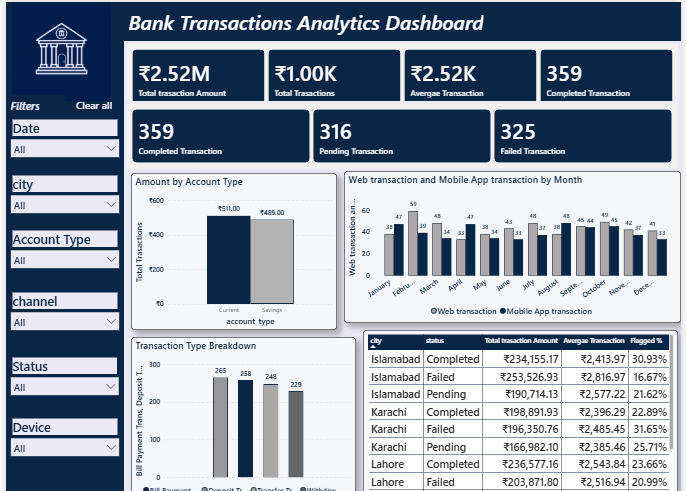

What the dashboard file says about the page in this screenshot:
{"tool":"powerbi","page":{"name":"Details","canvas":[1350,1000],"ordinal":1},"visuals":[{"type":"shape","box":[236,0,1114,78],"z":0},{"type":"cardVisual","fields":{"Data":["All measures.Total trasaction Amount","All measures.Total Trasactions","All measures.Avergae Transaction","All measures.Completed Transaction"]},"box":[236,78,1114,146],"z":1000},{"type":"cardVisual","fields":{"Data":["All measures.Complete Transaction","All measures.Pending Transaction","All measures.Failed Transaction"]},"box":[236,198,1114,140],"z":2000},{"type":"shape","box":[0,0,236,1000],"z":3000},{"type":"slicer","fields":{"Values":["Table_bank.city"]},"box":[0,342.5,236,94],"z":4000},{"type":"slicer","fields":{"Values":["Table_bank.account_type"]},"box":[0,452.5,236,94],"z":5000},{"type":"slicer","fields":{"Values":["Table_bank.channel"]},"box":[0,575,236,94],"z":6000},{"type":"slicer","fields":{"Values":["Table_bank.status"]},"box":[0,705,235,122.5],"z":7000},{"type":"slicer","fields":{"Values":["Table_bank.device"]},"box":[0,827.5,236,94],"z":8000},{"type":"slicer","fields":{"Values":["Custom_Calender.Date"]},"box":[0,230,236,112],"z":9000},{"type":"image","box":[0,0,222,198],"z":10000},{"type":"clusteredColumnChart","title":"Amount by Account Type","fields":{"Y":["All measures.Total Trasactions"],"Category":["Table_bank.account_type"]},"box":[250,342,412,314],"z":11000},{"type":"clusteredColumnChart","fields":{"Category":["Custom_Calender.Date.Variation.Date Hierarchy.Month"],"Y":["All measures.Web transaction","All measures.Mobile App transaction"]},"box":[676,338,674,304],"z":12000},{"type":"clusteredColumnChart","title":"Transaction Type Breakdown","fields":{"Y":["All measures.Bill Payment Trans","All measures.Deposit Trans","All measures.Transfer Trans","All measures.Withdrwal Trans"]},"box":[250,670,450,330],"z":13000},{"type":"tableEx","fields":{"Values":["Table_bank.city","Table_bank.status","All measures.Total trasaction Amount","All measures.Avergae Transaction","All measures.Flagged %"]},"box":[714,656,630,344],"z":14000},{"type":"actionButton","box":[135,182.5,87.5,47.5],"z":15000},{"type":"shape","box":[0,186.2,117.5,40],"z":16000}]}

Visuals, with their boxes on the page's 1350x1000 design canvas (x1, y1, x2, y2). These are canvas units, not pixel positions in the 687x491 screenshot, which may show the page scaled, cropped or inside an application window:
shape: l=236, t=0, r=1350, b=78
cardVisual - All measures.Total trasaction Amount x All measures.Total Trasactions: l=236, t=78, r=1350, b=224
cardVisual - All measures.Complete Transaction x All measures.Pending Transaction: l=236, t=198, r=1350, b=338
shape: l=0, t=0, r=236, b=1000
slicer - Table_bank.city: l=0, t=342, r=236, b=436
slicer - Table_bank.account_type: l=0, t=452, r=236, b=546
slicer - Table_bank.channel: l=0, t=575, r=236, b=669
slicer - Table_bank.status: l=0, t=705, r=235, b=828
slicer - Table_bank.device: l=0, t=828, r=236, b=922
slicer - Custom_Calender.Date: l=0, t=230, r=236, b=342
image: l=0, t=0, r=222, b=198
"Amount by Account Type" clusteredColumnChart: l=250, t=342, r=662, b=656
clusteredColumnChart - Custom_Calender.Date.Variation.Date Hierarchy.Month x All measures.Web transaction: l=676, t=338, r=1350, b=642
"Transaction Type Breakdown" clusteredColumnChart: l=250, t=670, r=700, b=1000
tableEx - Table_bank.city x Table_bank.status: l=714, t=656, r=1344, b=1000
actionButton: l=135, t=182, r=222, b=230
shape: l=0, t=186, r=118, b=226
